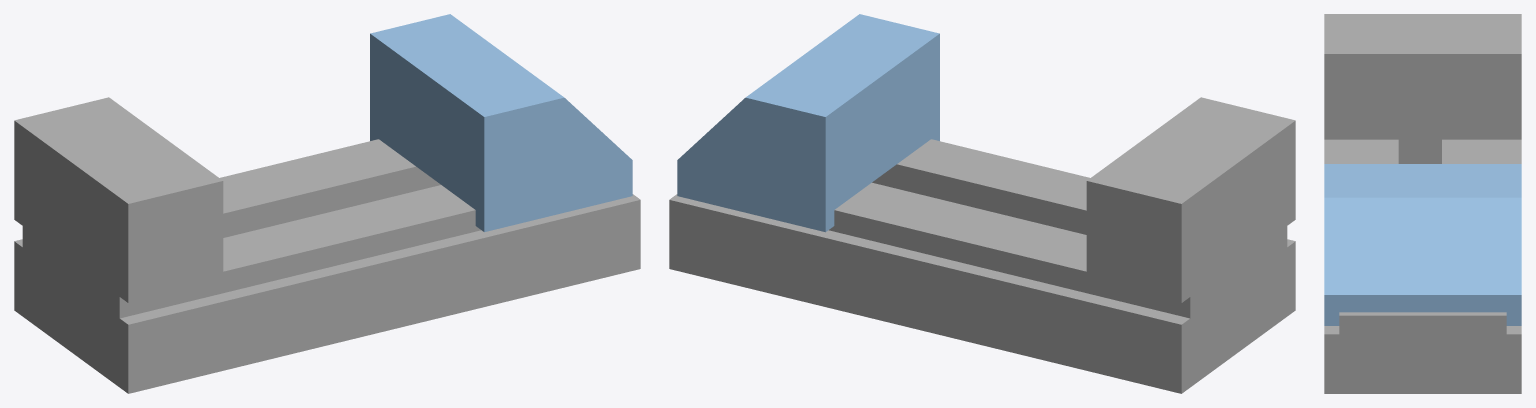
File: asset.gltf
3 renders of one model, left to right at view 1: azimuth 30°, elevation 25°; view 2: azimuth 150°, elevation 25°; view 3: azimuth 270°, elevation 25°, orthographic. The views are drawn at different scales.
Parts seen in each view (by area): view 1: Base, Slider; view 2: Base, Slider; view 3: Base, Slider.
Part boxes in pixels (x1,y1,x2,y2): Base: [14, 97, 640, 393]; Slider: [370, 14, 632, 232]; Base: [669, 97, 1295, 393]; Slider: [677, 14, 939, 232]; Base: [1324, 14, 1521, 393]; Slider: [1324, 164, 1521, 325].
Bounding box in the file's own units: 189 × 67 × 73.
